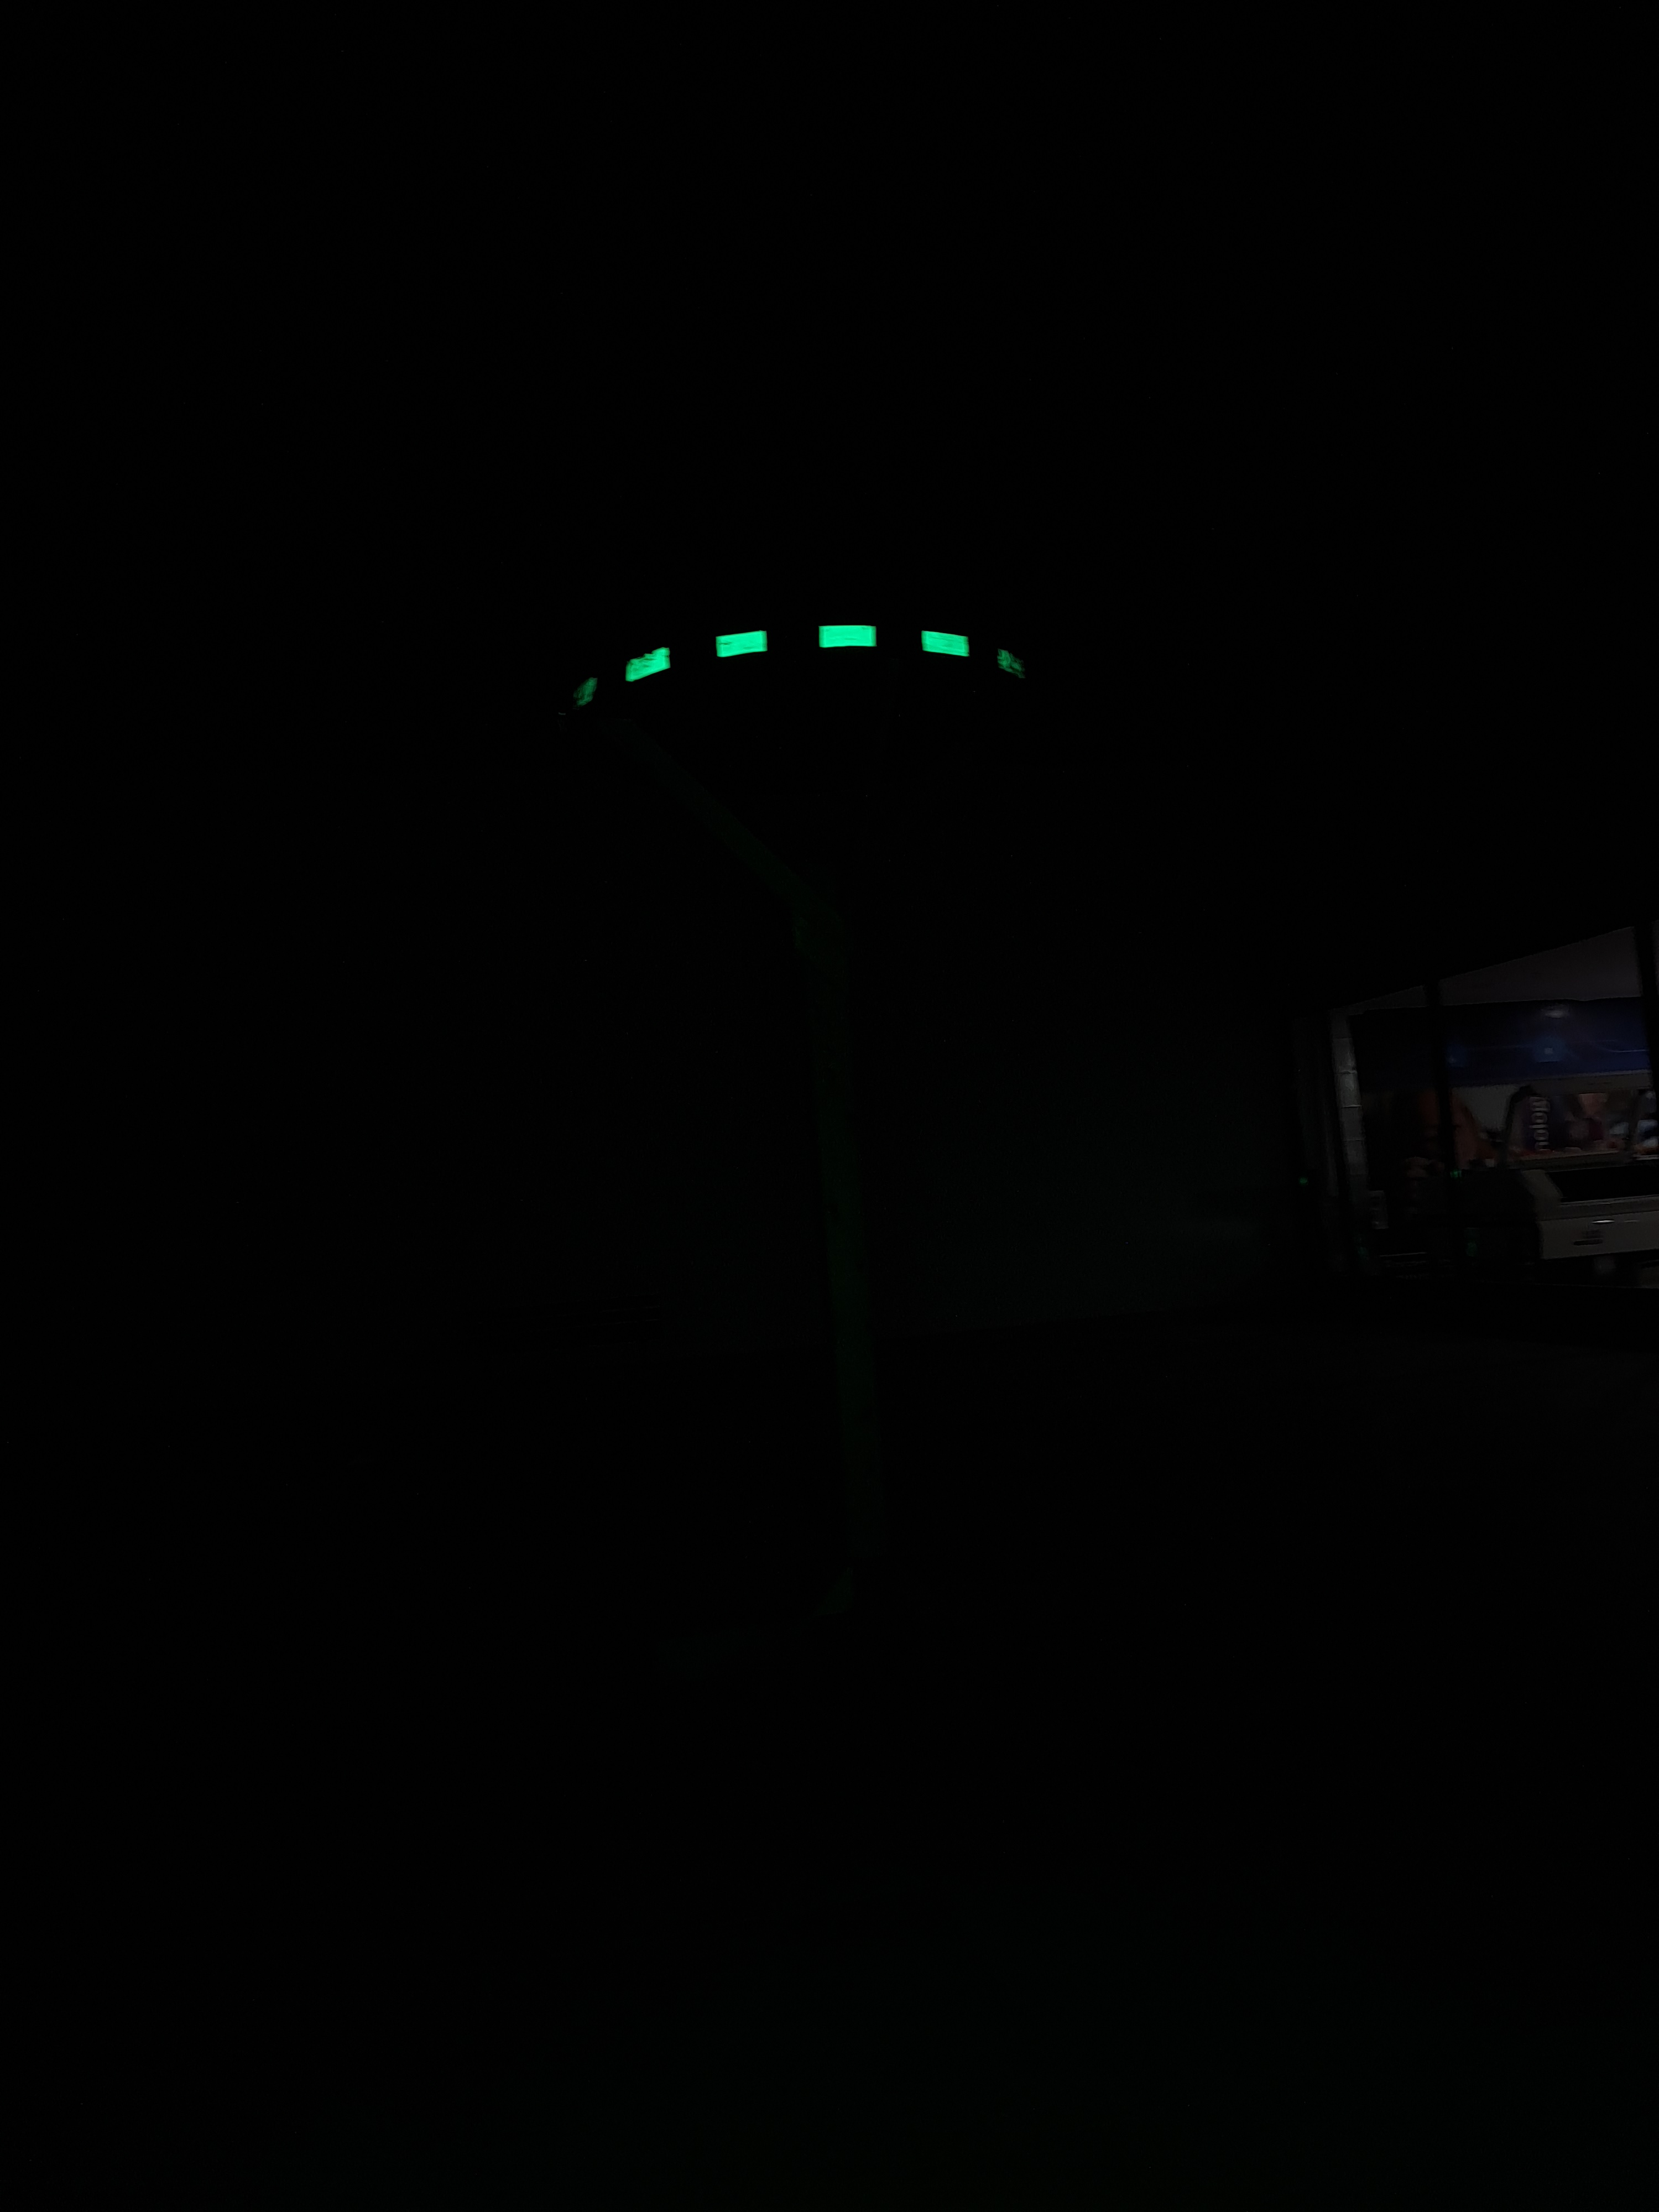hoop: (538, 603, 1058, 709)
